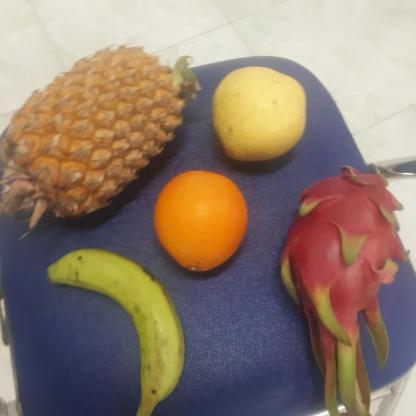banana: (56, 253, 193, 408)
orange: (152, 171, 252, 274)
pear: (211, 62, 309, 160)
pineapple: (7, 48, 202, 226)
pitaya: (280, 169, 409, 339)
